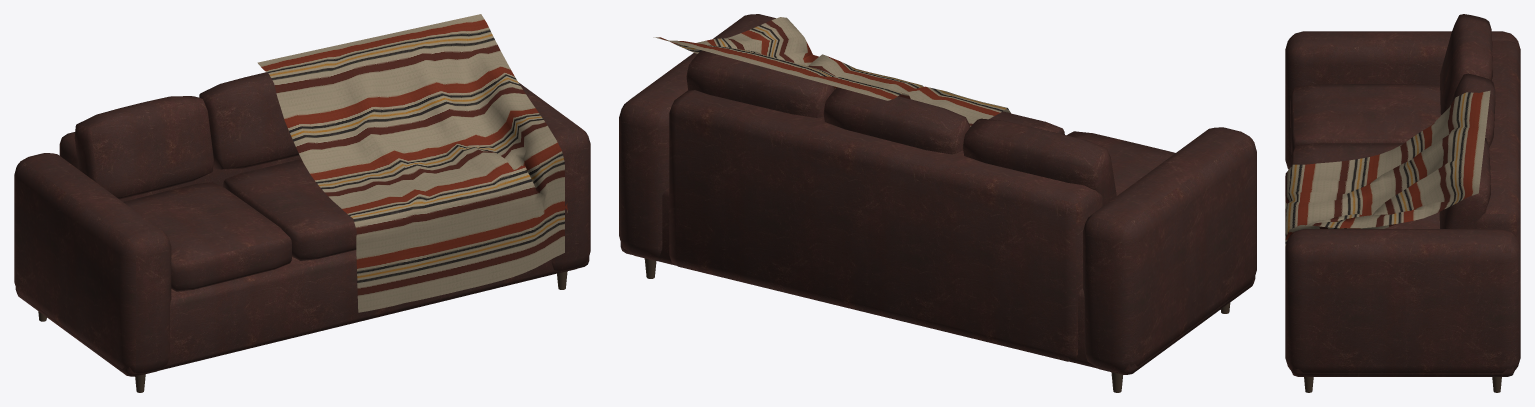
Rendered from couch.glb.
3 views of the same model, side by side, from view 1: azimuth 30°, elevation 25°; view 2: azimuth 150°, elevation 25°; view 3: azimuth 270°, elevation 25° (orthographic). The views are drawn at different scales.
Visible parts, largest first — view 1: couch_N23; view 2: couch_N23; view 3: couch_N23.
Part boxes in pixels (x1,y1,x2,y2): couch_N23: [14, 14, 590, 392]; couch_N23: [619, 14, 1256, 392]; couch_N23: [1285, 14, 1520, 392].
Bounding box in the file's own units: 2 × 0.85 × 0.9.
Materials: 3 (2 with a texture image).
